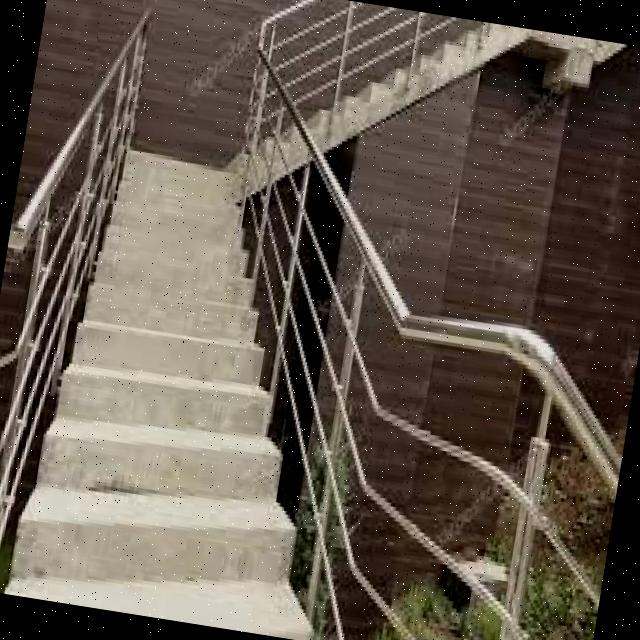stairs: (0, 132, 387, 639)
